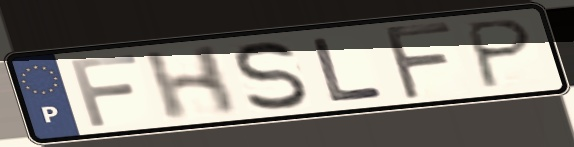F: (378, 20, 457, 103), (65, 51, 142, 129)
H: (139, 42, 241, 124)
L: (306, 35, 389, 105)
P: (464, 16, 538, 92)
S: (232, 38, 312, 113)
